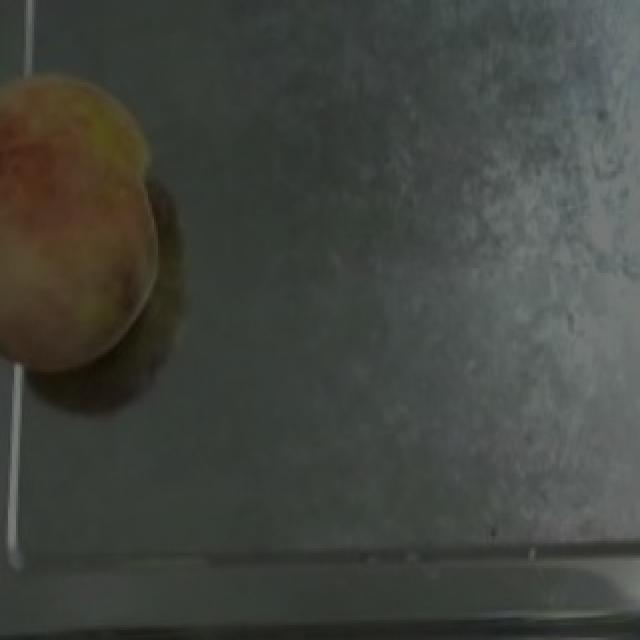Fruit: (0, 49, 174, 380)
